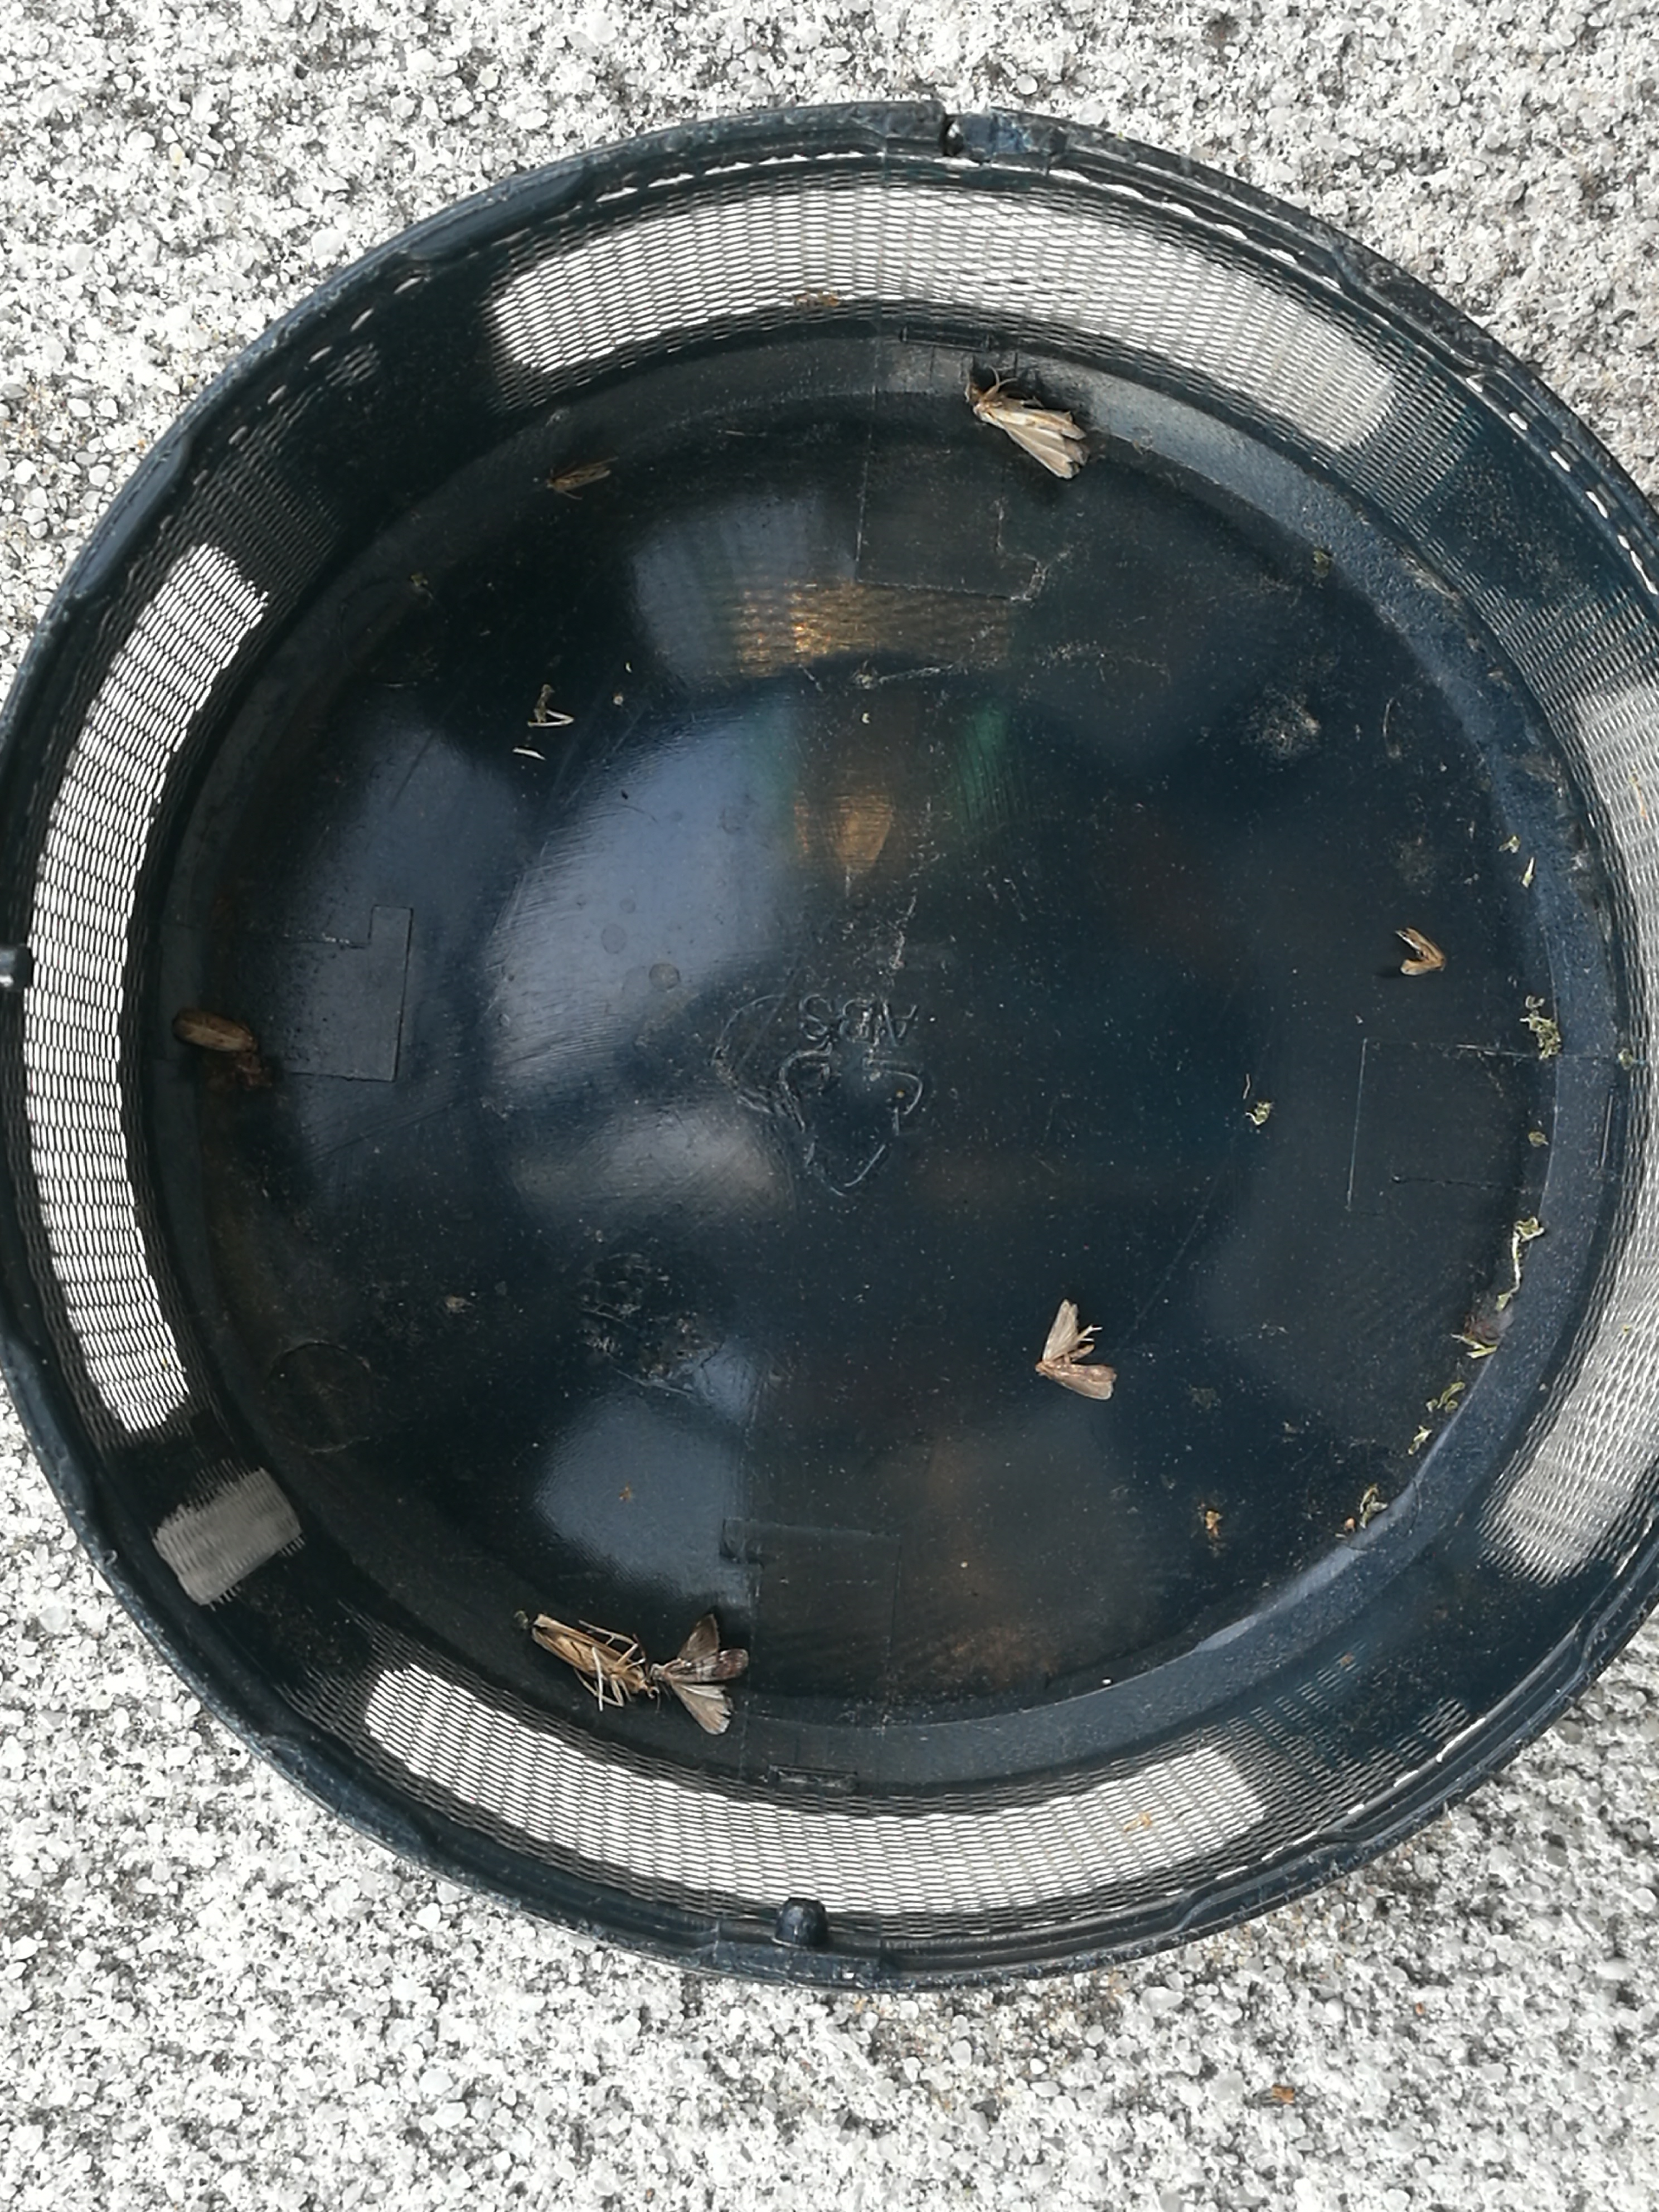mosquito: (530, 1615, 650, 1688)
moth: (653, 1616, 746, 1733), (974, 395, 1086, 479), (1037, 1301, 1117, 1399), (174, 1005, 256, 1045), (1401, 928, 1441, 972)
